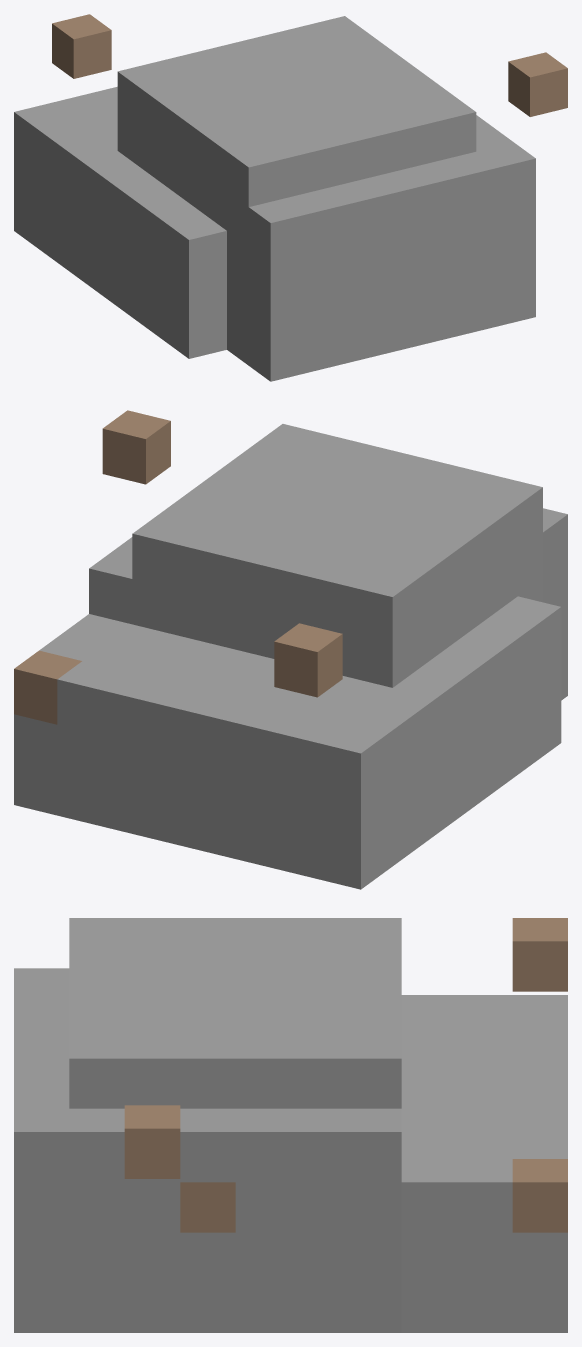
Rendered from veta_hierro_05.glb.
3 renders of one model, top to bottom at view 1: azimuth 30°, elevation 25°; view 2: azimuth 150°, elevation 25°; view 3: azimuth 270°, elevation 25°, orthographic. The views are drawn at different scales.
Visible parts, largest first — view 1: veta_hierro_05; view 2: veta_hierro_05; view 3: veta_hierro_05.
Part boxes in pixels (bbox=[...]): veta_hierro_05: bbox=[14, 14, 567, 381]; veta_hierro_05: bbox=[14, 410, 567, 889]; veta_hierro_05: bbox=[14, 918, 567, 1332].
Size of the model in its own units: 1 by 0.5 by 1.
